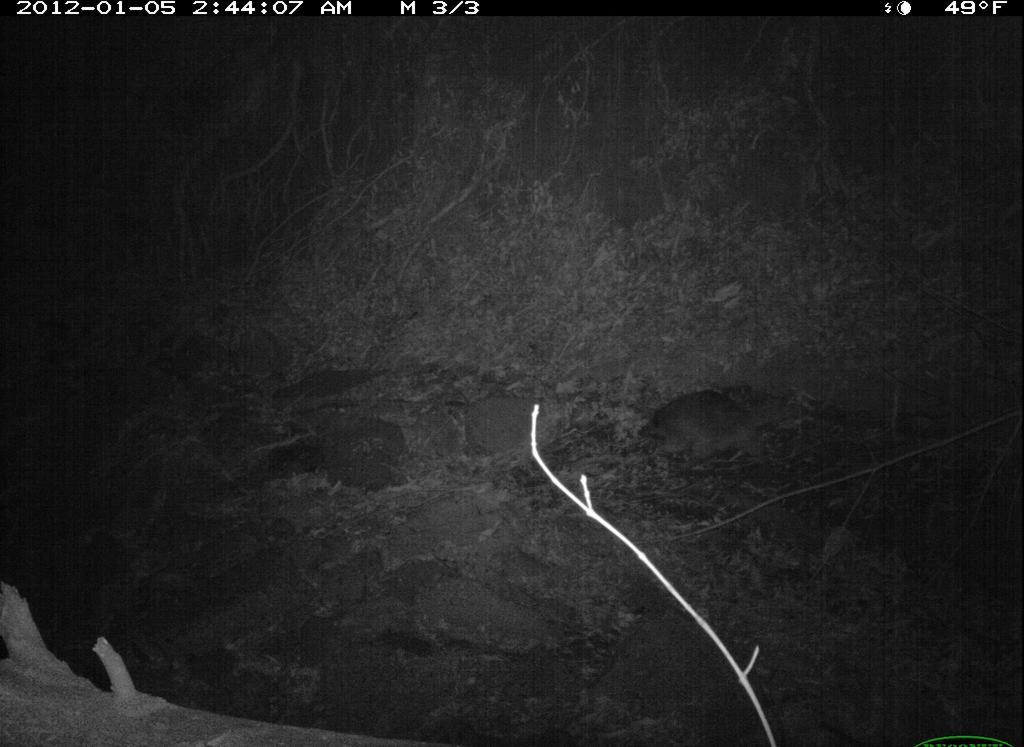raccoon: (626, 372, 808, 487)
